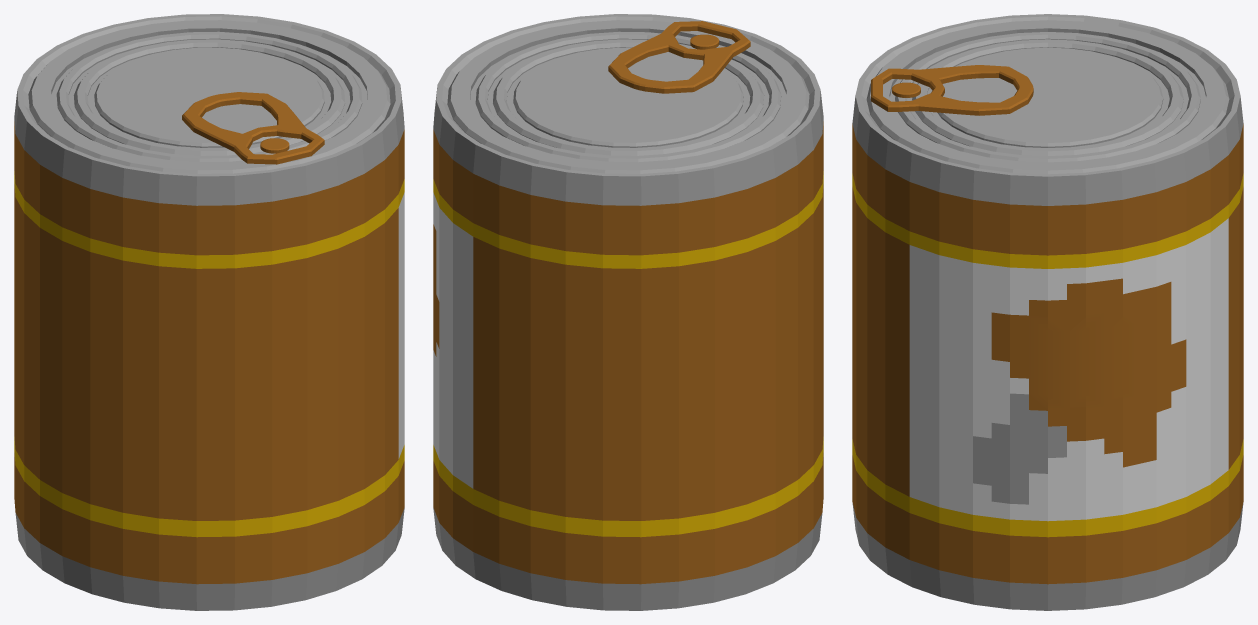
Rendered from soup_mushroom.fbx.
The picture shows the model from 3 angles, left to right: view 1: azimuth 30°, elevation 25°; view 2: azimuth 150°, elevation 25°; view 3: azimuth 270°, elevation 25°; orthographic projection.
Parts seen in each view (by area): view 1: Cylinder.001, Cube; view 2: Cylinder.001, Cube; view 3: Cylinder.001, Cube.
Boxes of the visible parts, box(x1,y1,x2,y2) form: Cylinder.001: box(14, 14, 404, 610); Cube: box(182, 92, 324, 164); Cylinder.001: box(433, 14, 823, 610); Cube: box(608, 21, 750, 93); Cylinder.001: box(852, 14, 1243, 610); Cube: box(871, 65, 1033, 115).
Size of the model in its own units: 19.45 by 24.19 by 19.45.
